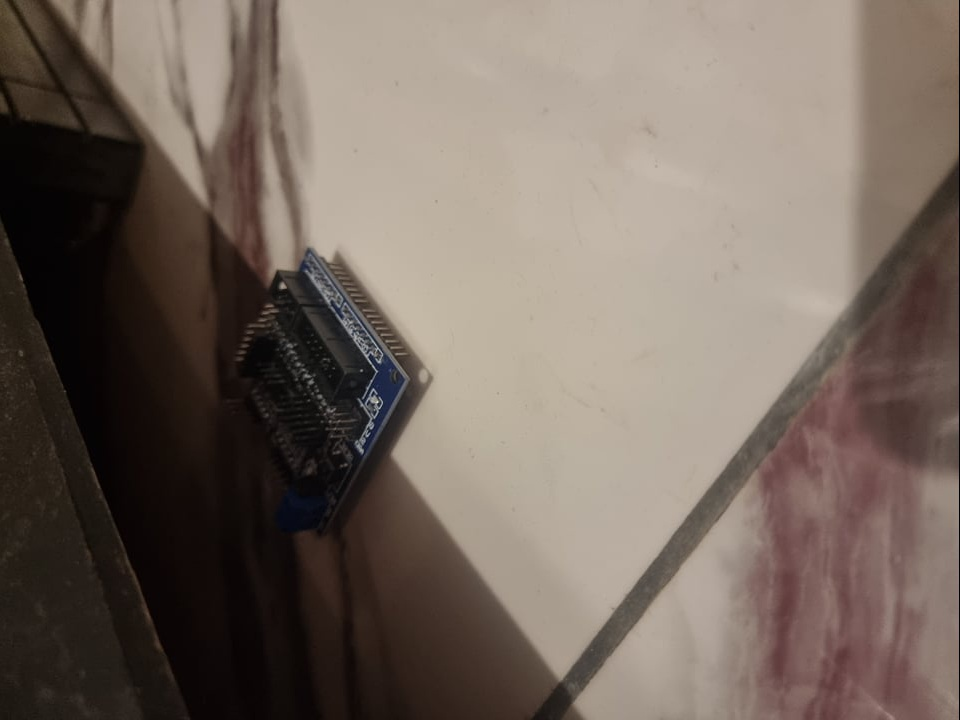5V EXPANSION: (225, 247, 419, 539)
